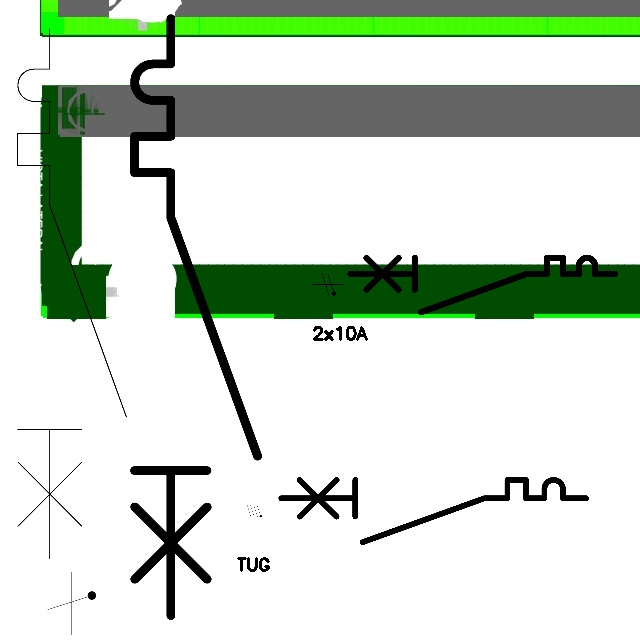interruptor_termomagnetico: (119, 3, 272, 630), (4, 15, 140, 572), (273, 472, 593, 550), (343, 251, 622, 319)
